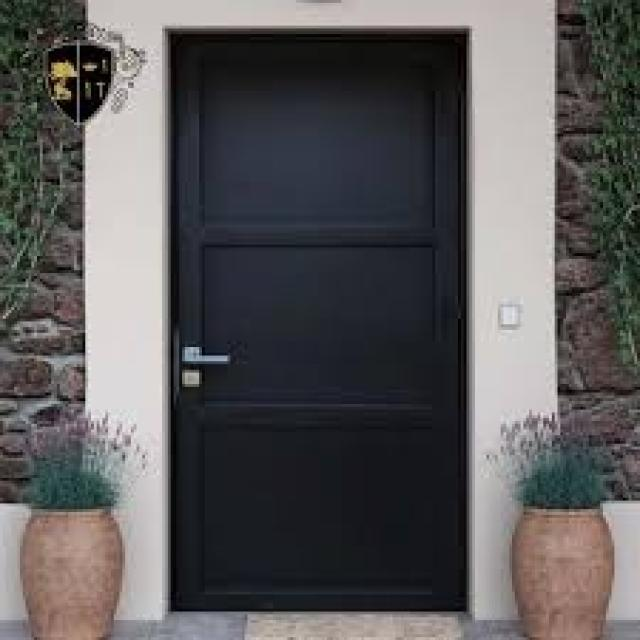door: (169, 30, 468, 613)
